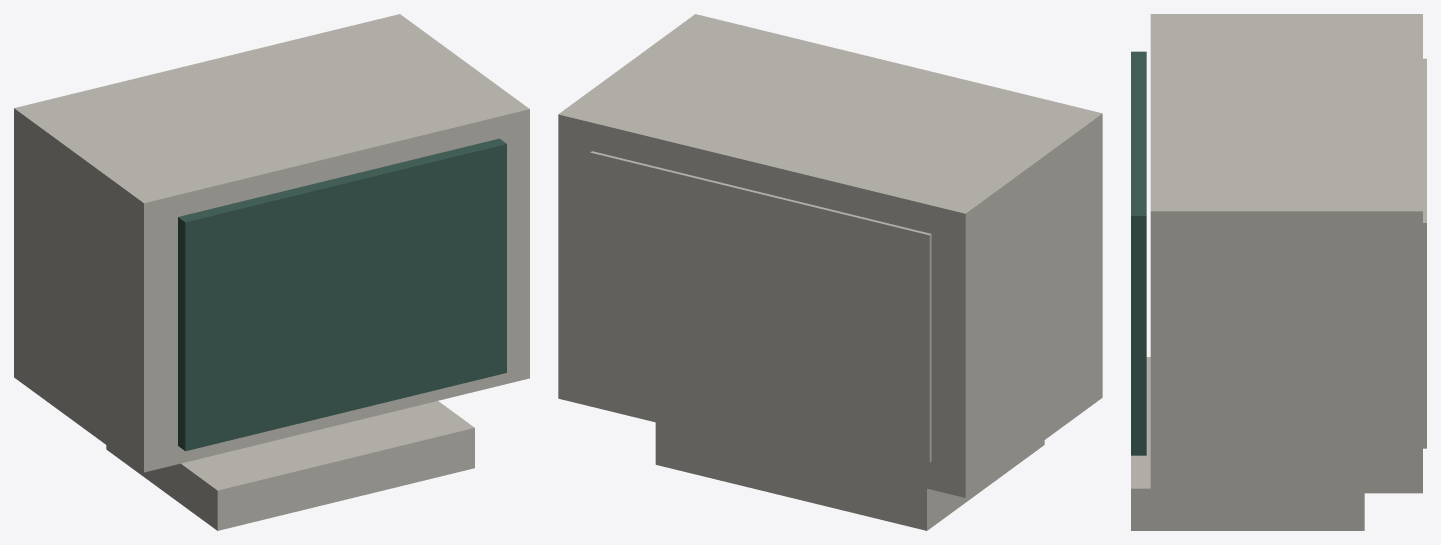
Rendered from dm_controlmonitor.glb.
3 renders of one model, left to right at view 1: azimuth 30°, elevation 25°; view 2: azimuth 150°, elevation 25°; view 3: azimuth 270°, elevation 25°, orthographic. The views are drawn at different scales.
Visible parts, largest first — view 1: dm_controlmonitor; view 2: dm_controlmonitor; view 3: dm_controlmonitor.
Boxes of the visible parts, bbox=[...] form: dm_controlmonitor: bbox=[14, 14, 529, 530]; dm_controlmonitor: bbox=[558, 14, 1102, 530]; dm_controlmonitor: bbox=[1131, 14, 1426, 530].
Size of the model in its own units: 0.6 by 0.5 by 0.38.
